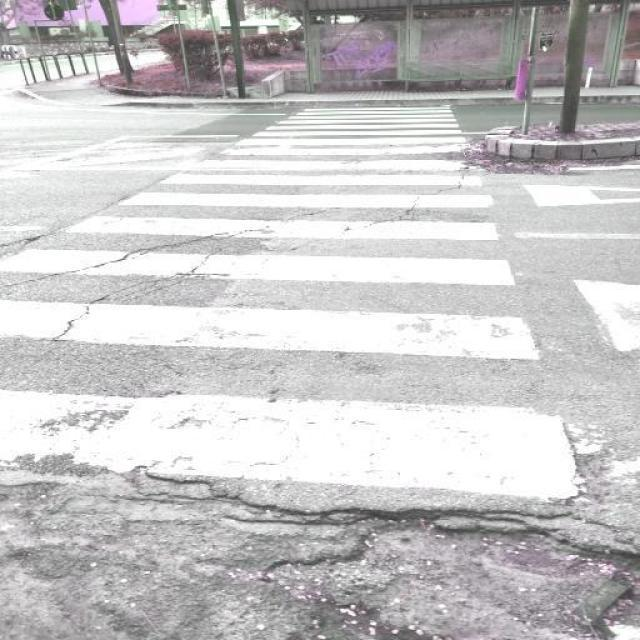crosswalk: (3, 106, 586, 502)
